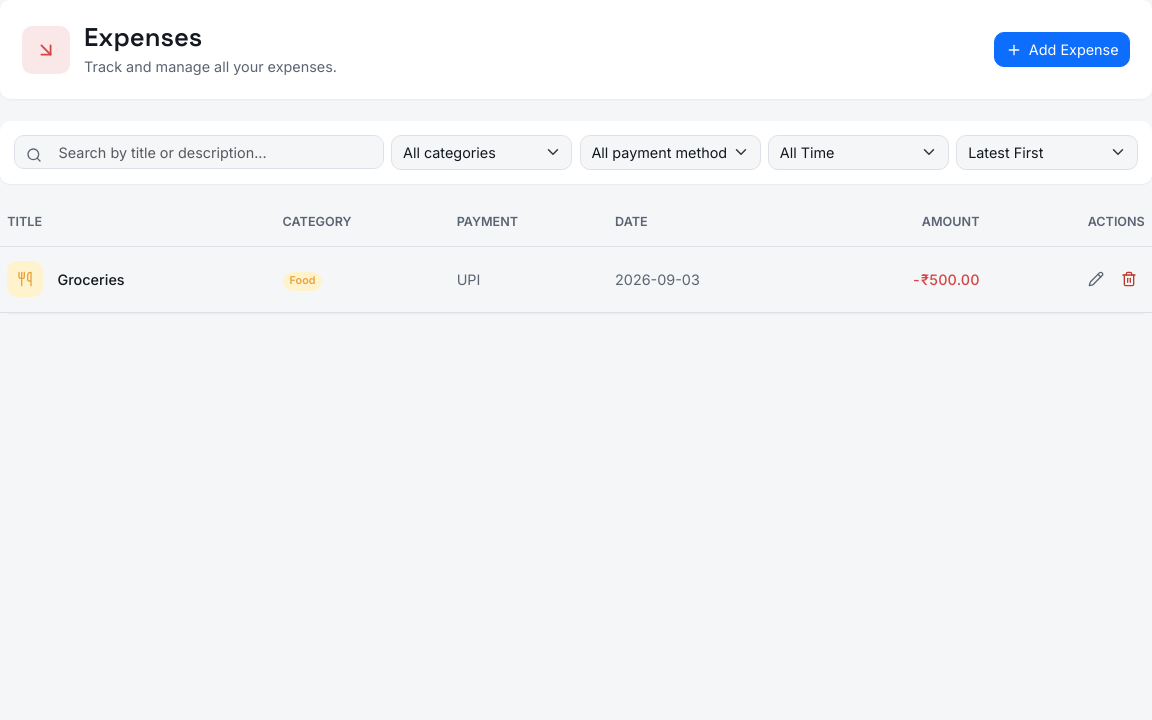
Scenario: Expenses page — budget threshold toasts › shows no threshold toast when deleting an expense, even if utilization drops across a threshold
Click the button named "Delete": click(1129, 279) 1112,265 -> 1145,293
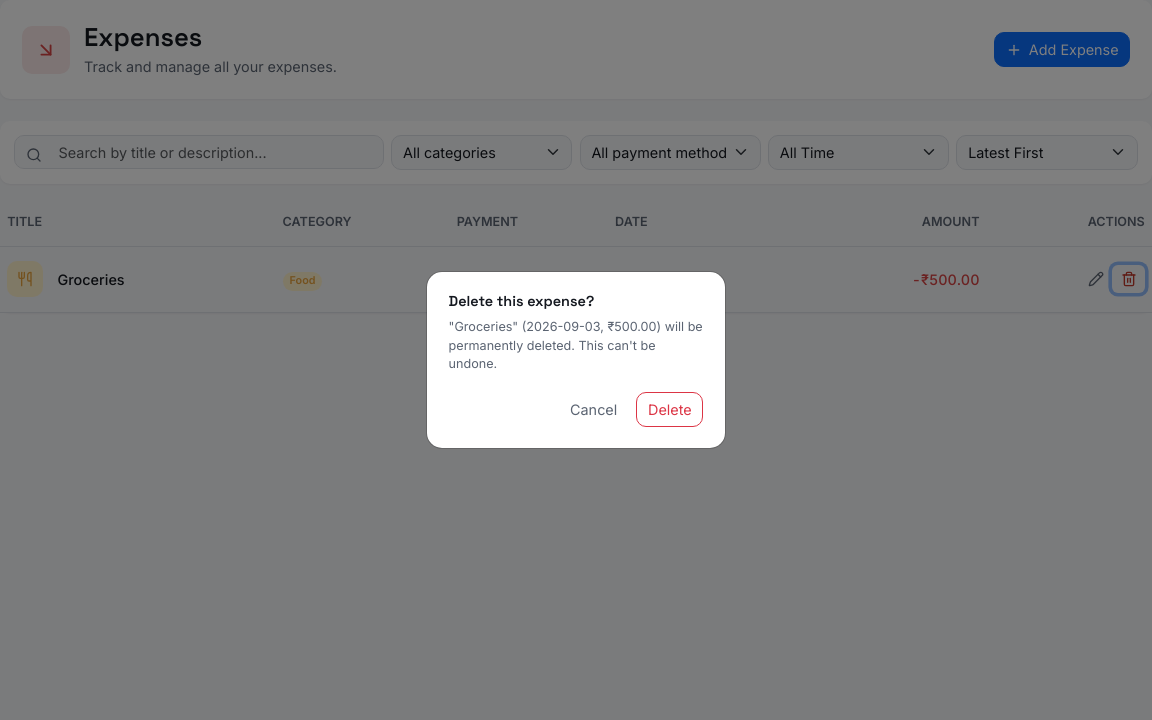
Click the button "Delete": click(670, 410) 636,392 -> 703,427
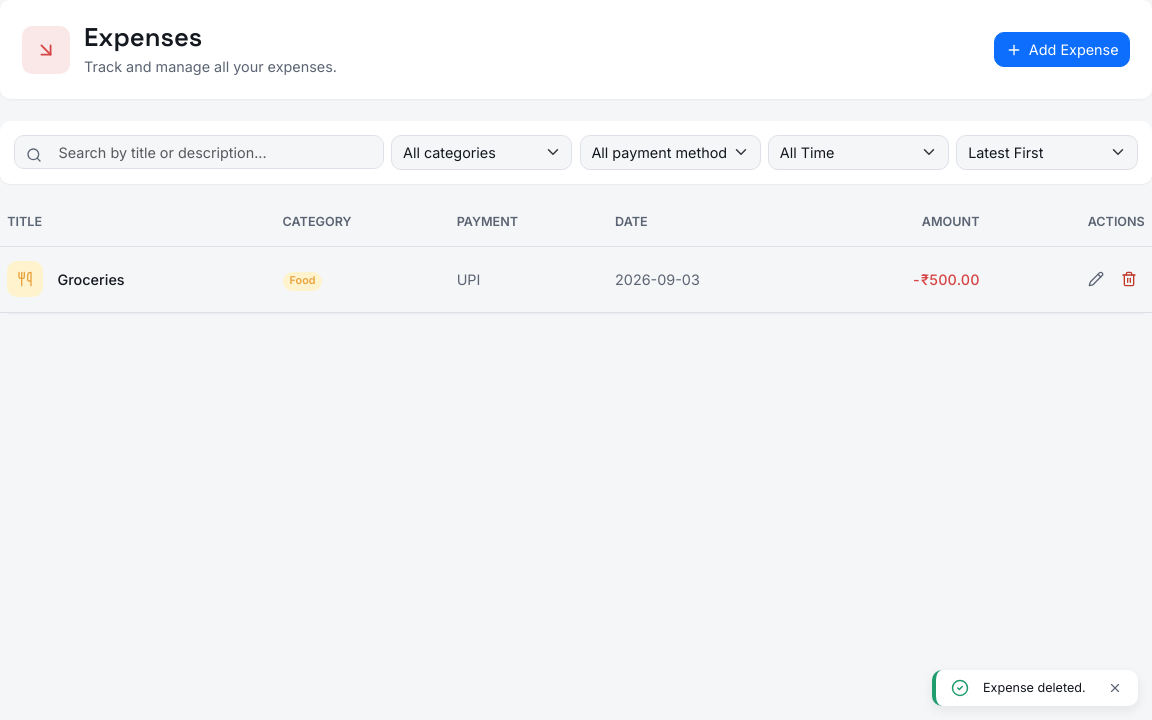
Check: the text "Expense deleted." is shown, box 983,678 -> 1086,697
